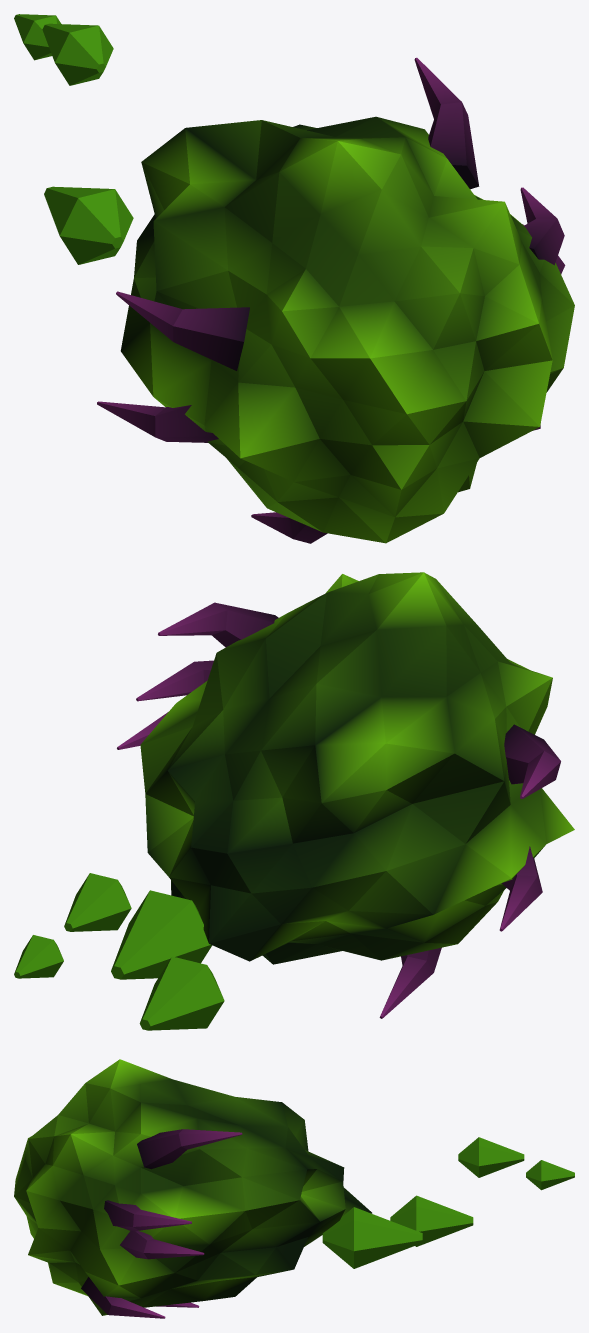
File: SM_PlantSpit.fbx
3 views of the same model, one above another, from view 1: azimuth 30°, elevation 25°; view 2: azimuth 150°, elevation 25°; view 3: azimuth 270°, elevation 25° (orthographic). The views are drawn at different scales.
Parts seen in each view (by area): view 1: SM_PlantSpit; view 2: SM_PlantSpit; view 3: SM_PlantSpit.
Part boxes in pixels (bbox=[...]): SM_PlantSpit: bbox=[14, 14, 574, 543]; SM_PlantSpit: bbox=[14, 572, 574, 1030]; SM_PlantSpit: bbox=[14, 1059, 574, 1318].
Bounding box in the file's own units: 1.03 × 0.9891 × 1.98.
